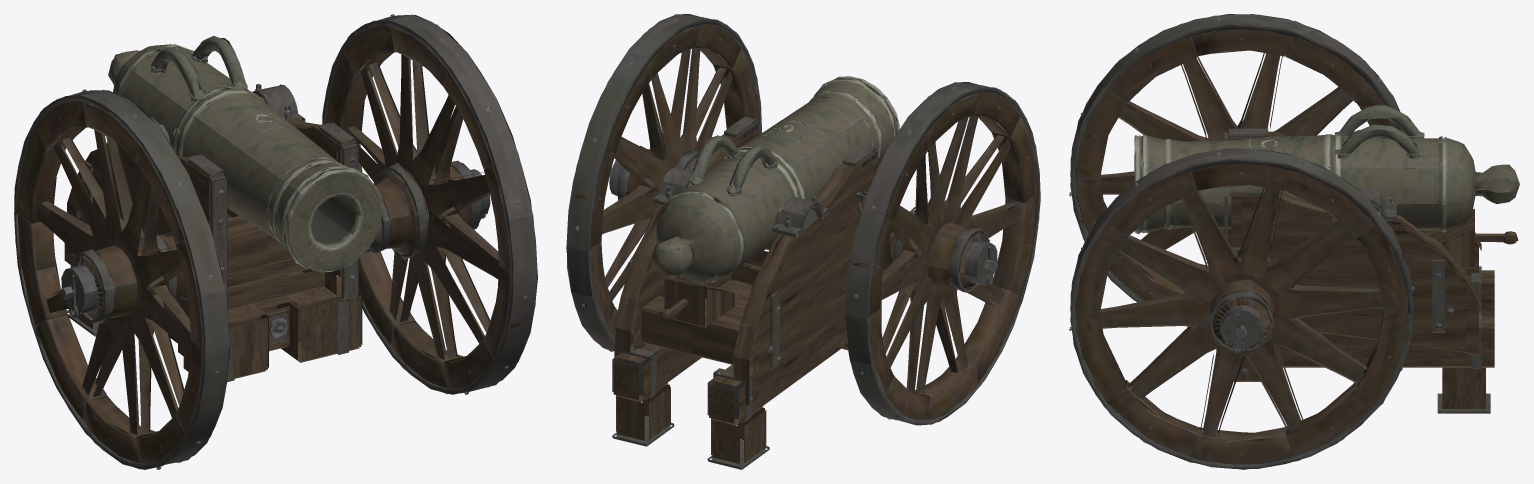
The model's file is cannon.glb.
3 renders of one model, left to right at view 1: azimuth 30°, elevation 25°; view 2: azimuth 150°, elevation 25°; view 3: azimuth 270°, elevation 25°, orthographic. The views are drawn at different scales.
Visible parts, largest first — view 1: Barrel; view 2: Barrel; view 3: Barrel.
Boxes of the visible parts, x1=… form: Barrel: x1=14, y1=14, x2=537, y2=469; Barrel: x1=566, y1=14, x2=1040, y2=469; Barrel: x1=1069, y1=14, x2=1519, y2=469.
Bounding box in the file's own units: 0.9731 × 0.7664 × 1.
Materials: 34 (34 with a texture image).
